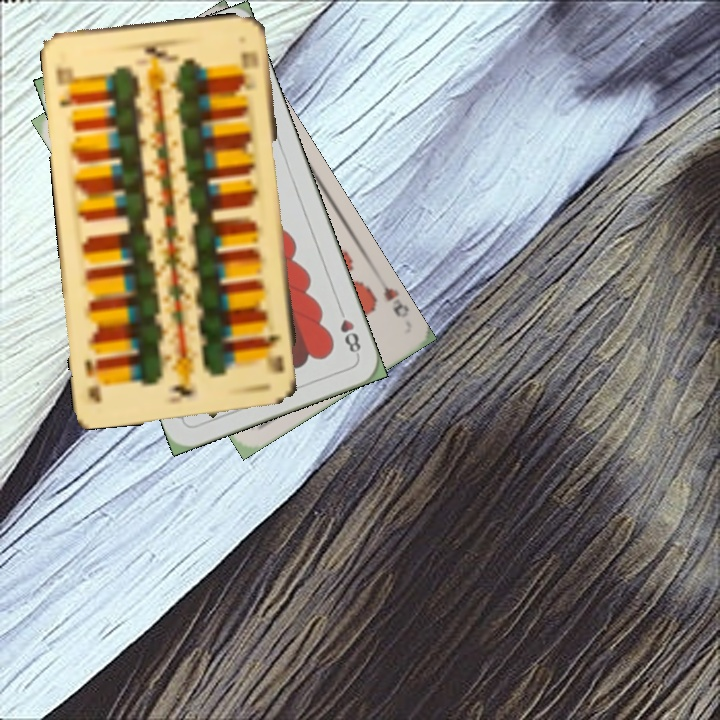E10: (52, 63, 79, 110), (260, 331, 288, 376)
H8: (334, 302, 364, 359)
H9: (374, 275, 409, 320)
